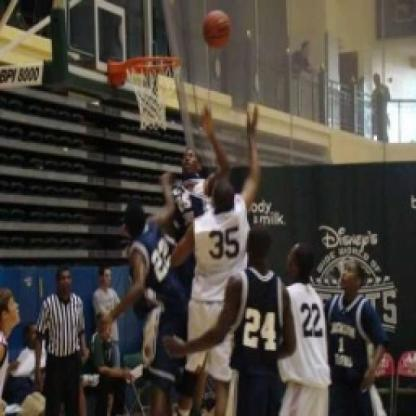basketball: (198, 5, 236, 52)
